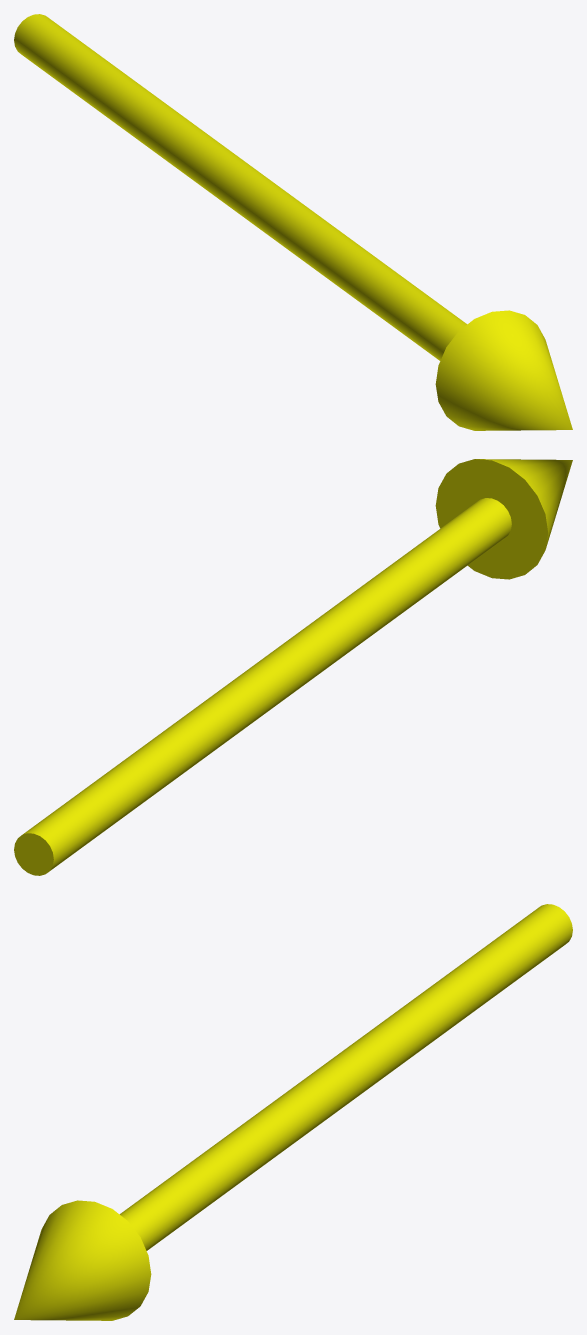
Rendered from arrows.gltf.
3 views of the same model, one above another, from view 1: azimuth 30°, elevation 25°; view 2: azimuth 150°, elevation 25°; view 3: azimuth 330°, elevation 25° (orthographic).
Parts seen in each view (by area): view 1: arrow; view 2: arrow; view 3: arrow.
Part boxes in pixels (<box>): arrow: <box>14,14,572,430</box>; arrow: <box>14,459,572,875</box>; arrow: <box>14,904,572,1320</box>.
Bounding box in the file's own units: 1.14 × 1.14 × 9.47.
